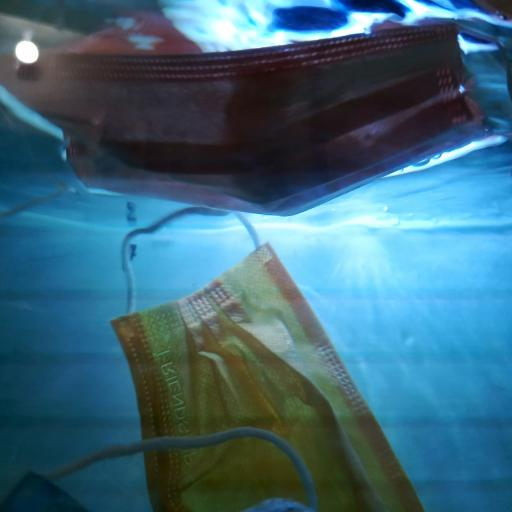mask: (0, 18, 485, 220), (110, 204, 427, 512), (0, 423, 319, 511)
